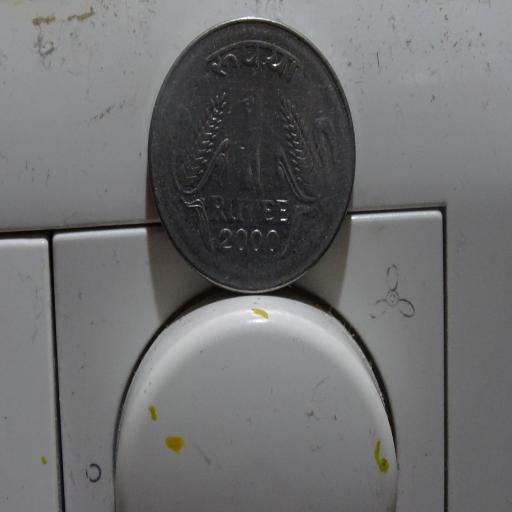rupee1: (146, 19, 351, 290)
